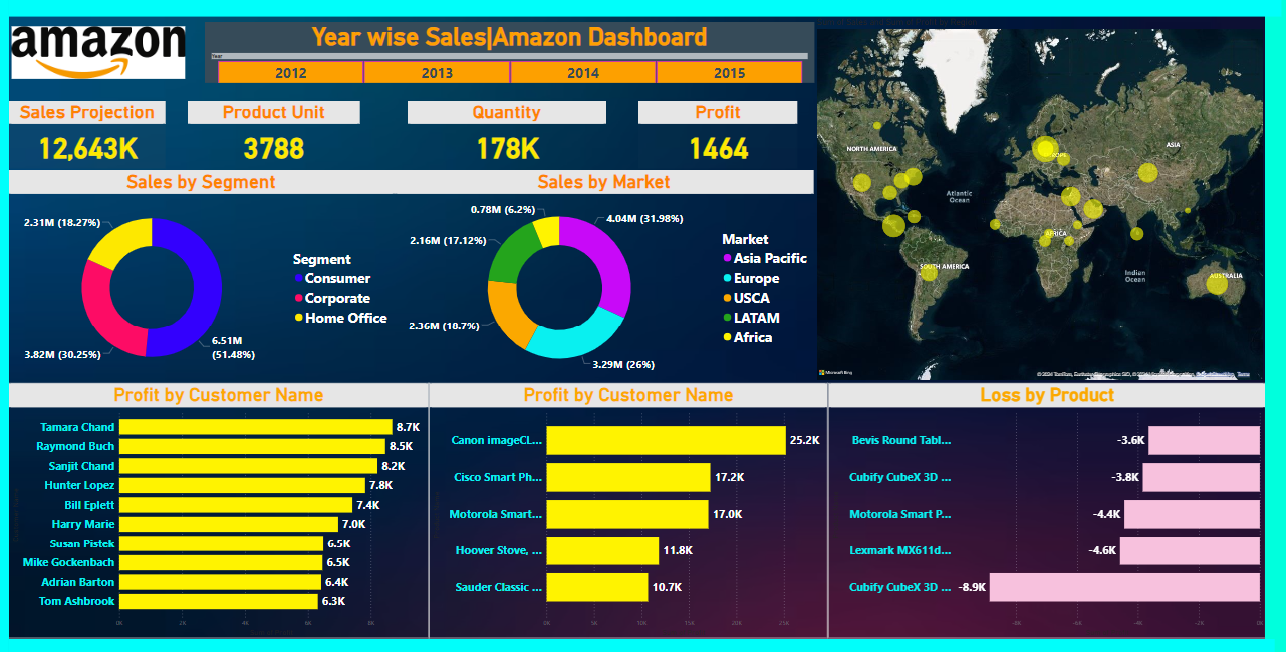

The page's visual inventory and layout, read from the dashboard file:
{"tool":"powerbi","page":{"name":"Page 1","canvas":[2500,1280],"ordinal":0},"visuals":[{"type":"card","title":"Sales Projection","fields":{"Values":["Orders.Sales"]},"box":[30.7,202.2,302.1,133.1],"z":0},{"type":"card","title":"Quantity","fields":{"Values":["Orders.Quantity"]},"box":[801.3,202.2,384,133.1],"z":1000},{"type":"card","title":"Product Unit","fields":{"Values":["Orders.Product Name"]},"box":[376.3,202.2,332.8,133.1],"z":2000},{"type":"card","title":"Profit","fields":{"Values":["Orders.Ship Date"]},"box":[1246.7,202.2,307.2,133.1],"z":3000},{"type":"donutChart","title":"Sales by Segment","fields":{"Category":["Orders.Segment"],"Y":["Orders.Sales"]},"box":[30,336.7,746.7,416.7],"z":4000},{"type":"map","fields":{"Category":["Orders.Region"],"Size":["Orders.Sales"]},"box":[1586.8,39.5,871.1,713.2],"z":5000},{"type":"clusteredBarChart","title":" Profit by Customer Name","fields":{"Category":["Orders.Customer Name"],"Y":["Orders.Profit"]},"box":[28.9,752.6,813.2,497.4],"z":6000},{"type":"slicer","title":"Year wise Sales|Amazon Dashboard","fields":{"Values":["Orders.Year"]},"box":[409.6,48.6,1177.6,117.8],"z":7000},{"type":"image","box":[31.6,39.5,344.7,136.8],"z":8000},{"type":"donutChart","title":"Sales by Market","fields":{"Y":["Orders.Sales"],"Category":["Orders.Market"]},"box":[776.7,336.7,810,416.7],"z":9000},{"type":"clusteredBarChart","title":" Profit by Customer Name","fields":{"Y":["Orders.Profit"],"Category":["Orders.Product Name"]},"box":[842.1,752.6,771.1,497.4],"z":10000},{"type":"clusteredBarChart","title":"Loss  by Product","fields":{"Y":["Orders.Profit"],"Category":["Orders.Product Name"]},"box":[1613.2,752.6,844.7,497.4],"z":11000},{"type":"textbox","box":[0,0,30.7,1280],"z":12000},{"type":"textbox","box":[2457.9,0,42.1,1278.9],"z":13000},{"type":"textbox","box":[30.7,0,2457.6,38.4],"z":14000},{"type":"textbox","box":[31.6,1250,2444.7,28.9],"z":14001}]}

Visuals, with their boxes in screenshot pixels (x1, y1, x2, y2), scaled from the page's 2500x1280 canvas onto the 1286x654 screenshot:
"Sales Projection" card: (x1=16, y1=103, x2=171, y2=171)
"Quantity" card: (x1=412, y1=103, x2=610, y2=171)
"Product Unit" card: (x1=194, y1=103, x2=365, y2=171)
"Profit" card: (x1=641, y1=103, x2=799, y2=171)
"Sales by Segment" donutChart: (x1=15, y1=172, x2=400, y2=385)
map - Orders.Region x Orders.Sales: (x1=816, y1=20, x2=1264, y2=385)
" Profit by Customer Name" clusteredBarChart: (x1=15, y1=385, x2=433, y2=639)
"Year wise Sales|Amazon Dashboard" slicer: (x1=211, y1=25, x2=816, y2=85)
image: (x1=16, y1=20, x2=194, y2=90)
"Sales by Market" donutChart: (x1=400, y1=172, x2=816, y2=385)
" Profit by Customer Name" clusteredBarChart: (x1=433, y1=385, x2=830, y2=639)
"Loss  by Product" clusteredBarChart: (x1=830, y1=385, x2=1264, y2=639)
textbox: (x1=0, y1=0, x2=16, y2=653)
textbox: (x1=1264, y1=0, x2=1285, y2=653)
textbox: (x1=16, y1=0, x2=1280, y2=20)
textbox: (x1=16, y1=639, x2=1274, y2=653)
